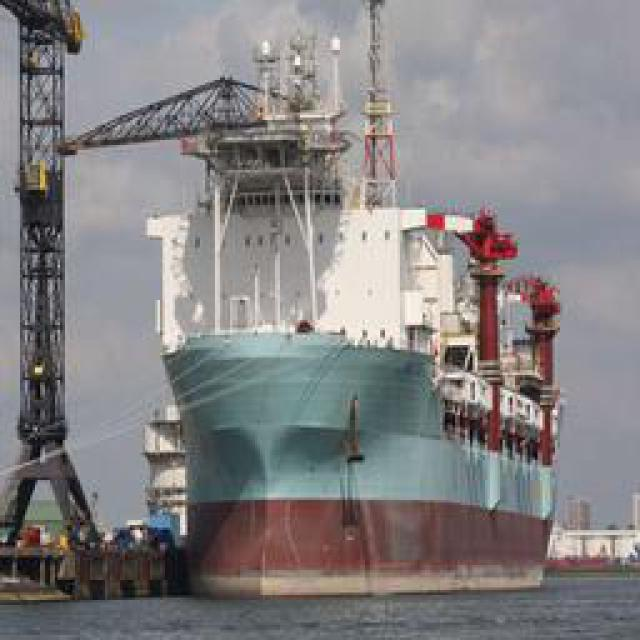Ship: (136, 95, 559, 593)
